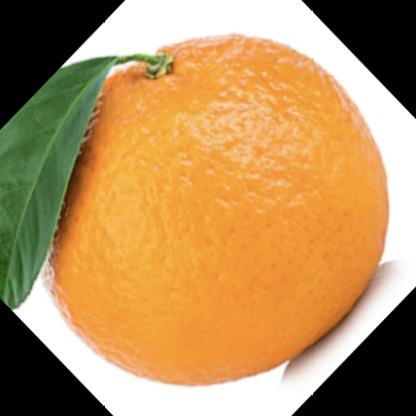fresh: (45, 36, 392, 397)
